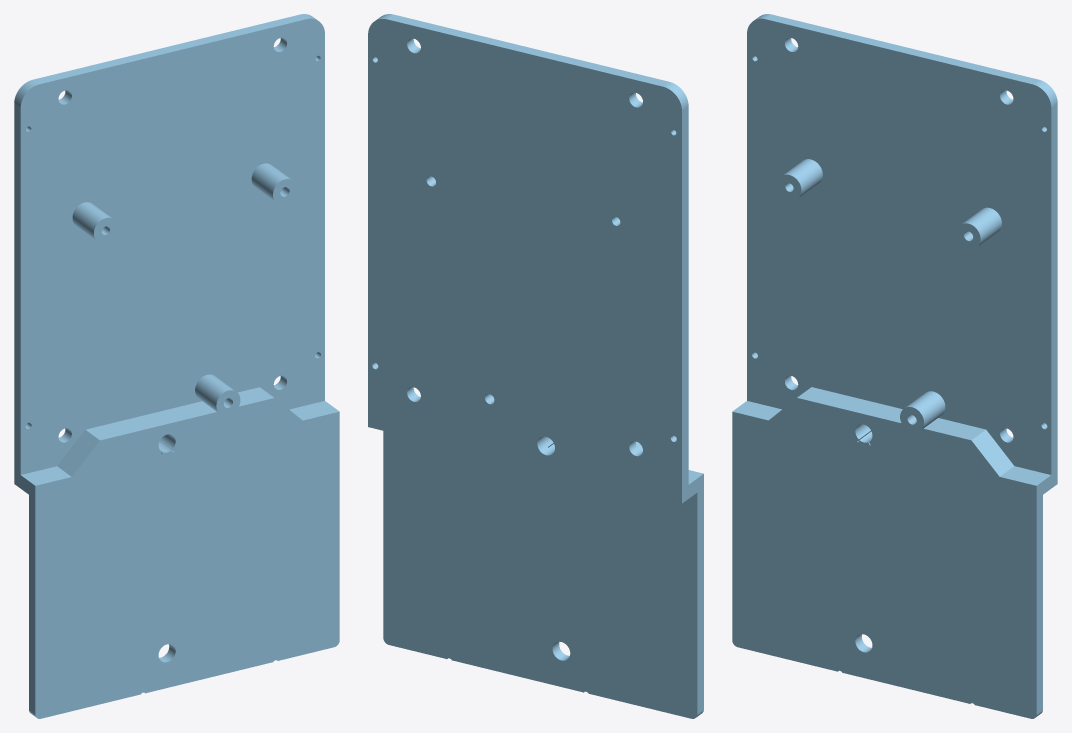
The picture shows the model from 3 angles, left to right: view 1: azimuth 30°, elevation 25°; view 2: azimuth 150°, elevation 25°; view 3: azimuth 330°, elevation 25°; orthographic projection. The views are drawn at different scales.
Visible parts, largest first — view 1: mesh4331, mesh4321, mesh4307, mesh4305, mesh4299, mesh4300, mesh4295, mesh4344, mesh4340, mesh4301, mesh4298; view 2: mesh4343, mesh4319, mesh4307, mesh4305; view 3: mesh4331, mesh4321, mesh4302, mesh4305, mesh4299, mesh4297, mesh4295, mesh4340, mesh4344, mesh4296, mesh4298, mesh4301.
Part boxes in pixels (left/top/right/bottom): mesh4331: left=20, top=18, right=324, bottom=474; mesh4321: left=35, top=398, right=339, bottom=718; mesh4307: left=14, top=104, right=35, bottom=713; mesh4305: left=33, top=14, right=305, bottom=84; mesh4299: left=86, top=401, right=216, bottom=440; mesh4300: left=57, top=430, right=99, bottom=476; mesh4295: left=195, top=374, right=234, bottom=412; mesh4344: left=72, top=202, right=112, bottom=240; mesh4340: left=251, top=163, right=291, bottom=201; mesh4301: left=21, top=466, right=71, bottom=485; mesh4298: left=289, top=401, right=339, bottom=420; mesh4343: left=368, top=19, right=681, bottom=503; mesh4319: left=383, top=431, right=697, bottom=718; mesh4307: left=682, top=107, right=703, bottom=713; mesh4305: left=387, top=14, right=669, bottom=86; mesh4331: left=747, top=18, right=1051, bottom=474; mesh4321: left=732, top=398, right=1036, bottom=718; mesh4302: left=1036, top=104, right=1057, bottom=713; mesh4305: left=766, top=14, right=1038, bottom=84; mesh4299: left=797, top=387, right=902, bottom=422; mesh4297: left=971, top=430, right=1013, bottom=476; mesh4295: left=905, top=391, right=945, bottom=429; mesh4340: left=962, top=207, right=1001, bottom=245; mesh4344: left=782, top=159, right=822, bottom=197; mesh4296: left=924, top=418, right=985, bottom=440; mesh4298: left=1000, top=466, right=1050, bottom=485; mesh4301: left=732, top=401, right=781, bottom=420.
Size of the model in its own units: 0.082 by 0.1598 by 0.013.
